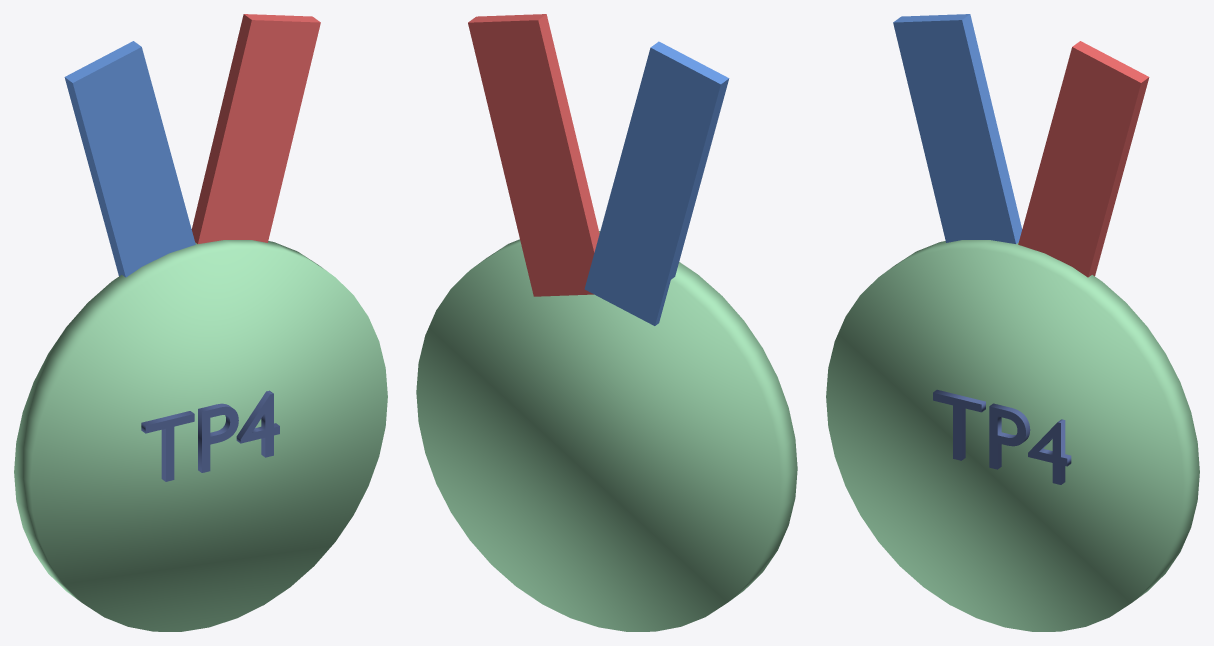
Rendered from ui_medal_tp4.glb.
3 renders of one model, left to right at view 1: azimuth 30°, elevation 25°; view 2: azimuth 150°, elevation 25°; view 3: azimuth 330°, elevation 25°, orthographic.
Parts seen in each view (by area): view 1: medal_disc, medal_ribbon1, medal_ribbon0, medal_num; view 2: medal_disc, medal_ribbon1, medal_ribbon0; view 3: medal_disc, medal_ribbon0, medal_ribbon1, medal_num.
Part boxes in pixels (<box>): medal_disc: <box>14,240,387,631</box>; medal_ribbon1: <box>191,14,320,243</box>; medal_ribbon0: <box>64,41,195,277</box>; medal_num: <box>141,390,279,481</box>; medal_disc: <box>416,231,797,631</box>; medal_ribbon1: <box>468,14,599,296</box>; medal_ribbon0: <box>584,41,729,325</box>; medal_disc: <box>826,240,1199,631</box>; medal_ribbon0: <box>893,14,1022,243</box>; medal_ribbon1: <box>1018,41,1149,277</box>; medal_num: <box>933,389,1071,484</box>.
Size of the model in its own units: 0.05 by 0.0782 by 0.006.
